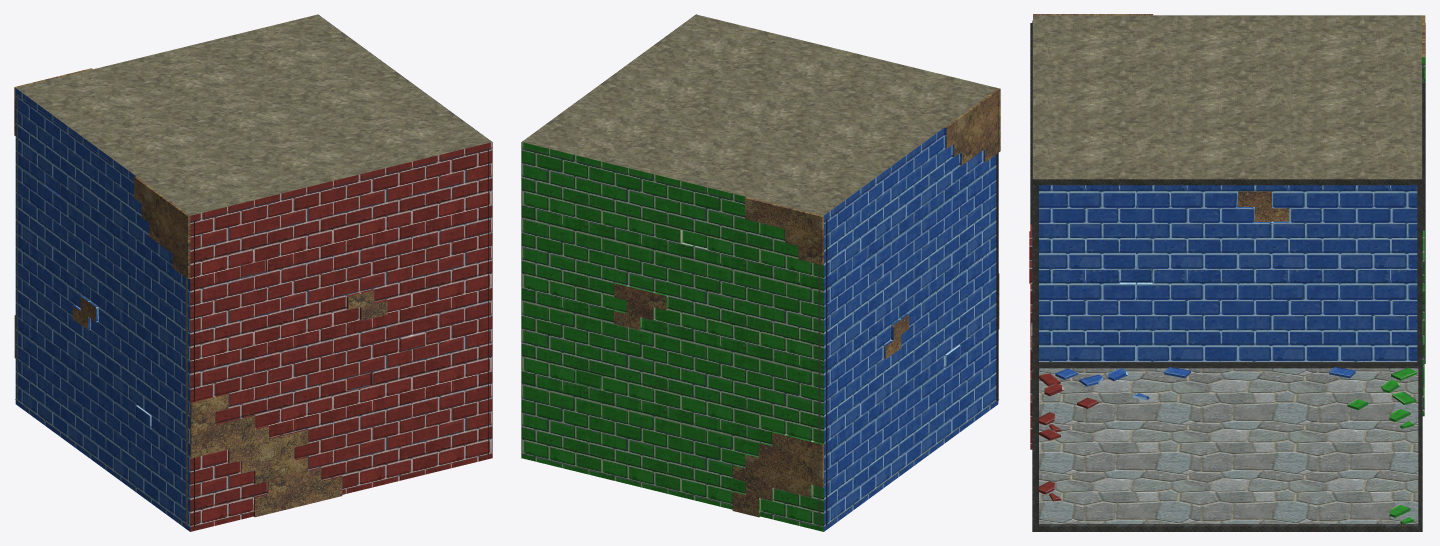
File: MysteryGravityRoomPlanet.dae
3 views of the same model, side by side, from view 1: azimuth 30°, elevation 25°; view 2: azimuth 150°, elevation 25°; view 3: azimuth 270°, elevation 25° (orthographic). The views are drawn at different scales.
Visible parts, largest first — view 1: m3, m1, m5, m6, m2; view 2: m4, m1, m5, m6, m2; view 3: m5, m1, m0, m2, m4, m3, m6.
Part boxes in pixels (x1=…): m3: x1=190, y1=142, x2=492, y2=531; m1: x1=16, y1=14, x2=491, y2=215; m5: x1=15, y1=88, x2=190, y2=531; m6: x1=14, y1=68, x2=387, y2=517; m2: x1=15, y1=14, x2=492, y2=527; m4: x1=521, y1=142, x2=823, y2=531; m1: x1=522, y1=14, x2=997, y2=215; m5: x1=824, y1=127, x2=998, y2=531; m6: x1=613, y1=88, x2=1000, y2=517; m2: x1=521, y1=14, x2=998, y2=527; m5: x1=1039, y1=185, x2=1417, y2=400; m1: x1=1033, y1=15, x2=1421, y2=179; m0: x1=1039, y1=368, x2=1418, y2=523; m2: x1=1030, y1=20, x2=1425, y2=531; m4: x1=1347, y1=57, x2=1425, y2=523; m3: x1=1029, y1=224, x2=1098, y2=501; m6: x1=1033, y1=14, x2=1425, y2=221.
Size of the model in its own units: 2520 by 2504 by 2549.
7 materials, 7 textured.
